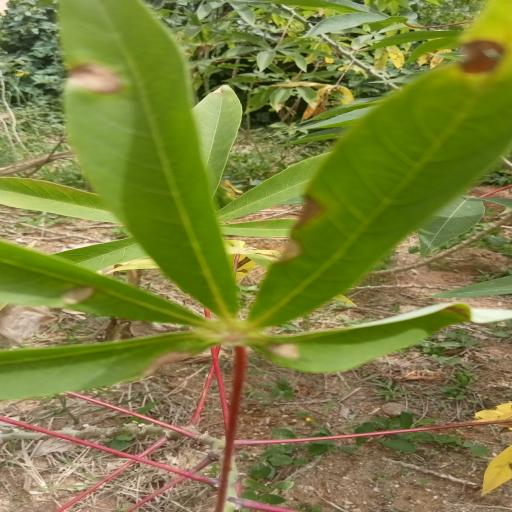Cassava_Root_Rot: (7, 0, 512, 402)
